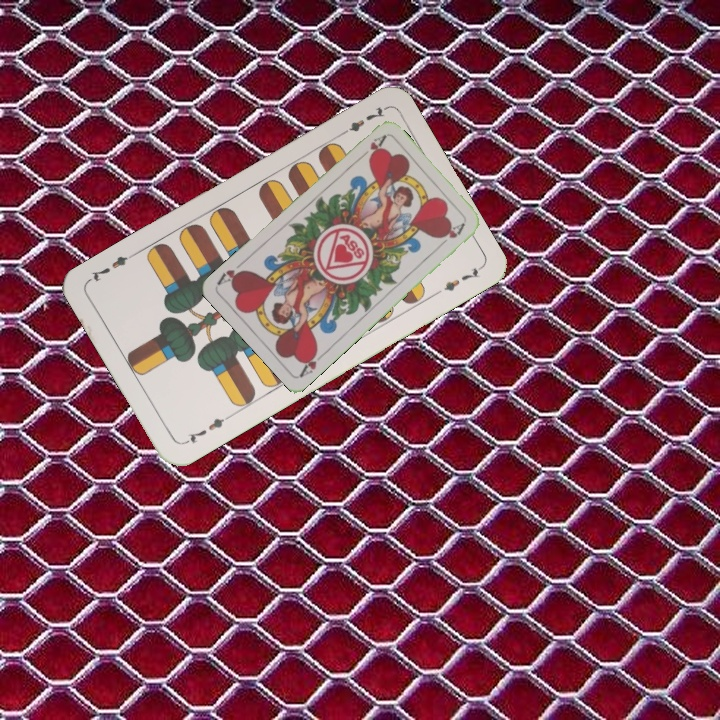E7: (180, 411, 233, 447), (336, 103, 389, 139)
HA: (296, 345, 329, 379), (354, 131, 388, 163)
